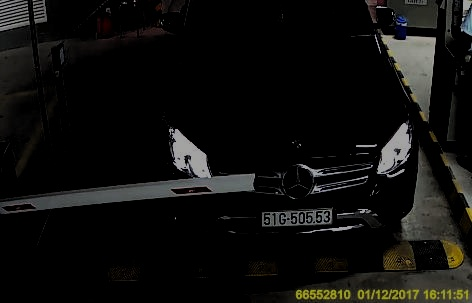plate: (260, 205, 333, 226)
